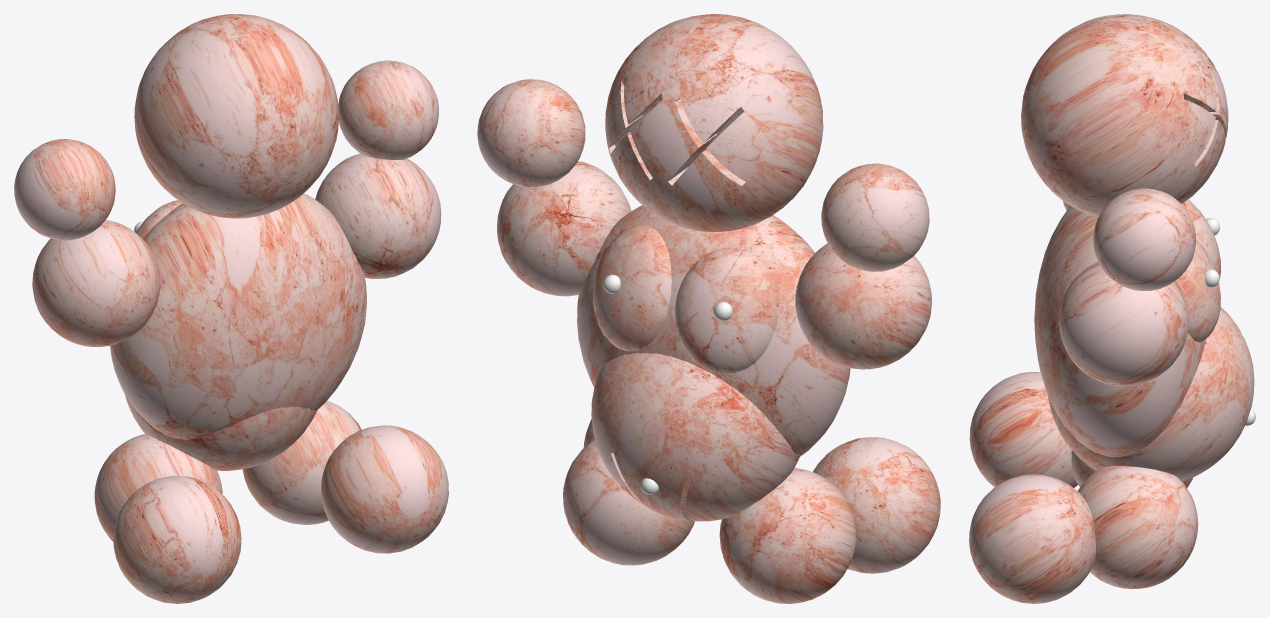
Rendered from Praified-RED-v129.glb.
3 views of the same model, side by side, from view 1: azimuth 30°, elevation 25°; view 2: azimuth 150°, elevation 25°; view 3: azimuth 270°, elevation 25° (orthographic). The views are drawn at different scales.
Visible parts, largest first — view 1: Mesh_0; view 2: Mesh_0 (×2); view 3: Mesh_0 (×2).
Part boxes in pixels (x1,y1,x2,y2): Mesh_0: (14, 14, 448, 603); Mesh_0 (×2): (477, 14, 940, 603); Mesh_0 (×2): (969, 14, 1255, 603).
Size of the model in its own units: 1.99 by 2.39 by 1.19.
2 materials, 1 textured.
